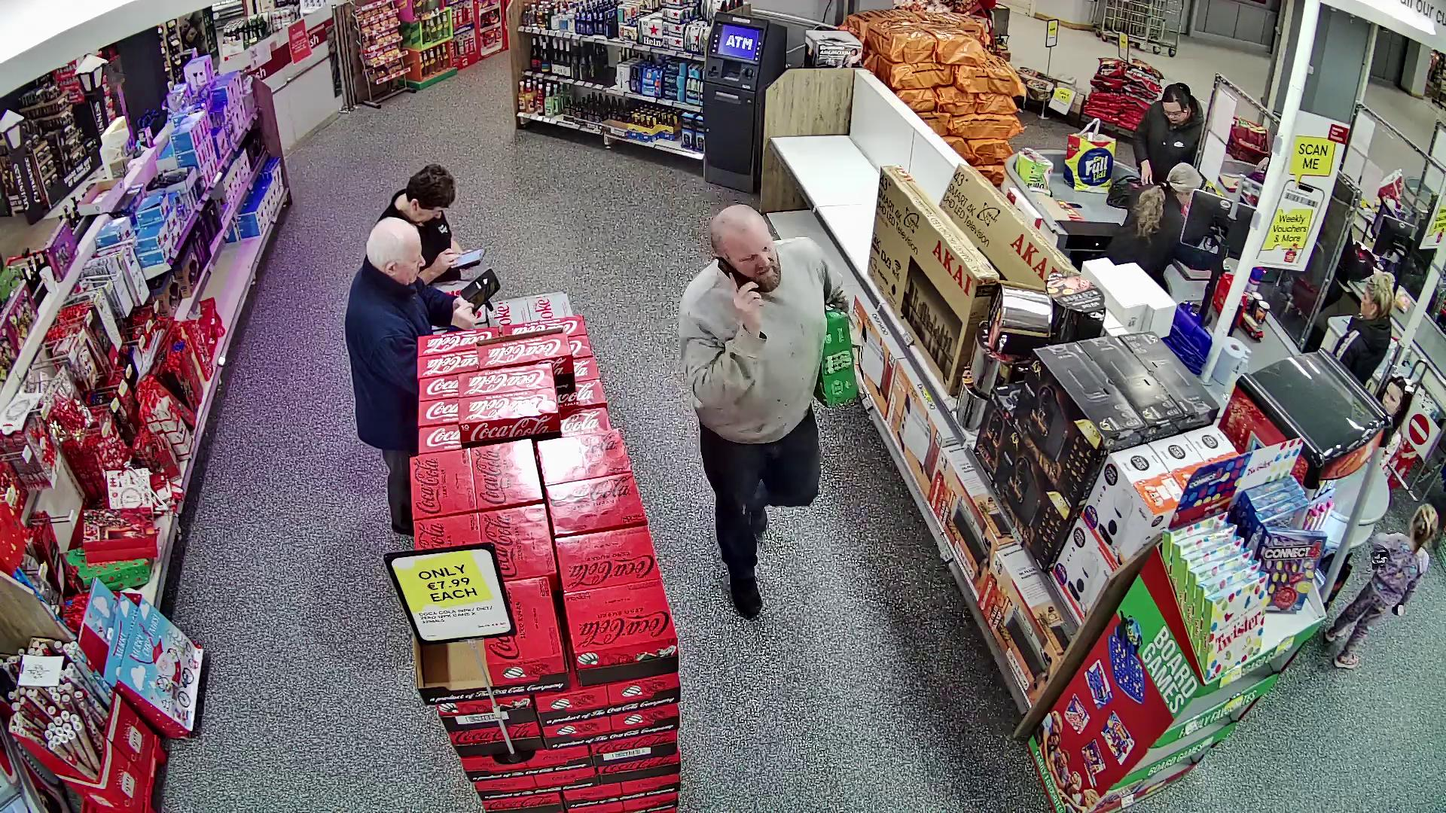carrying-item: (809, 305, 861, 407)
occupied-checkout-counter: (1056, 161, 1259, 330)
person: (680, 203, 848, 617)
person-with-carrying-item: (681, 203, 861, 617)
